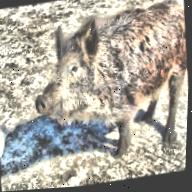boar: (24, 0, 192, 170)
